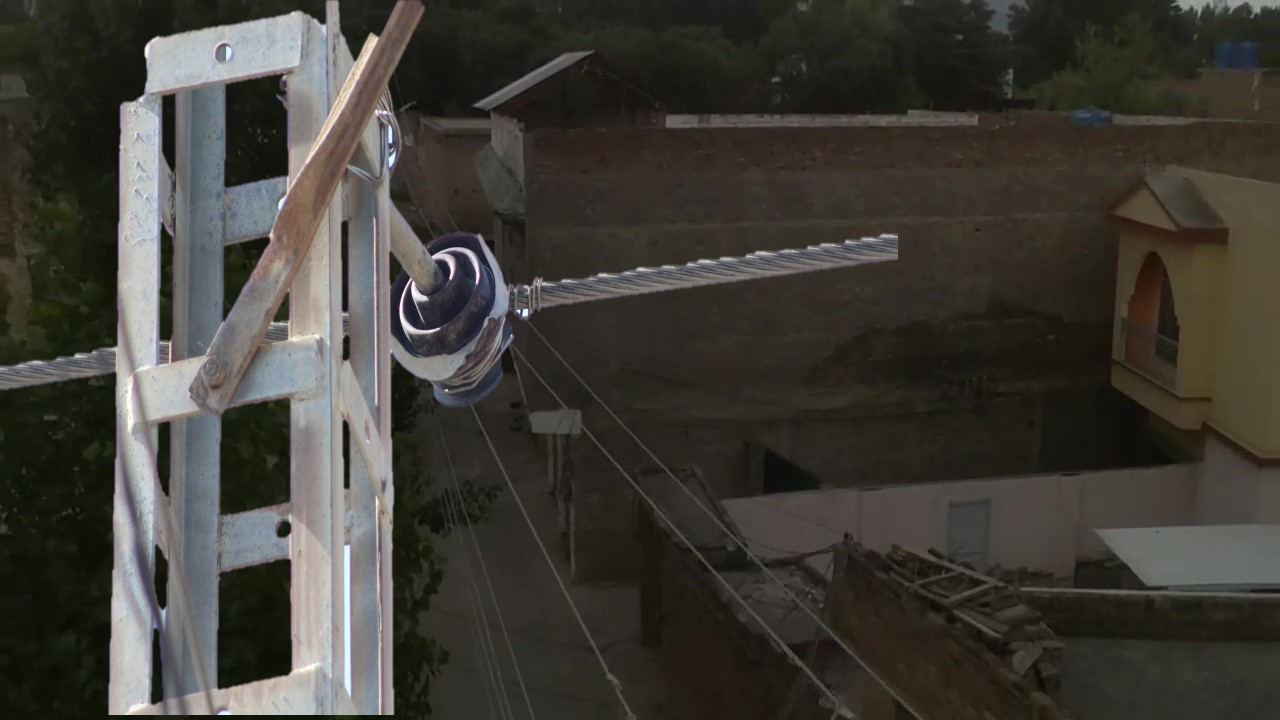defect_pin: (386, 224, 531, 418)
